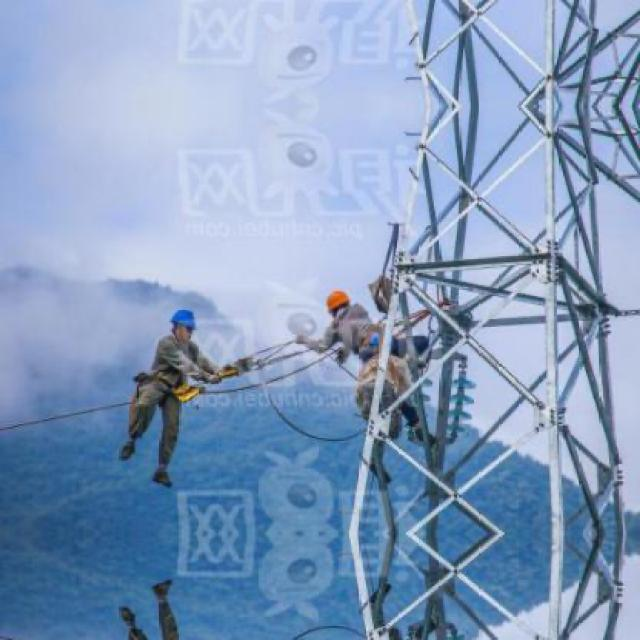con casco: (150, 299, 212, 346), (316, 286, 380, 313)
